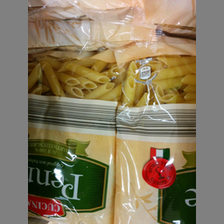pasta: (29, 42, 119, 224), (115, 33, 197, 224)
